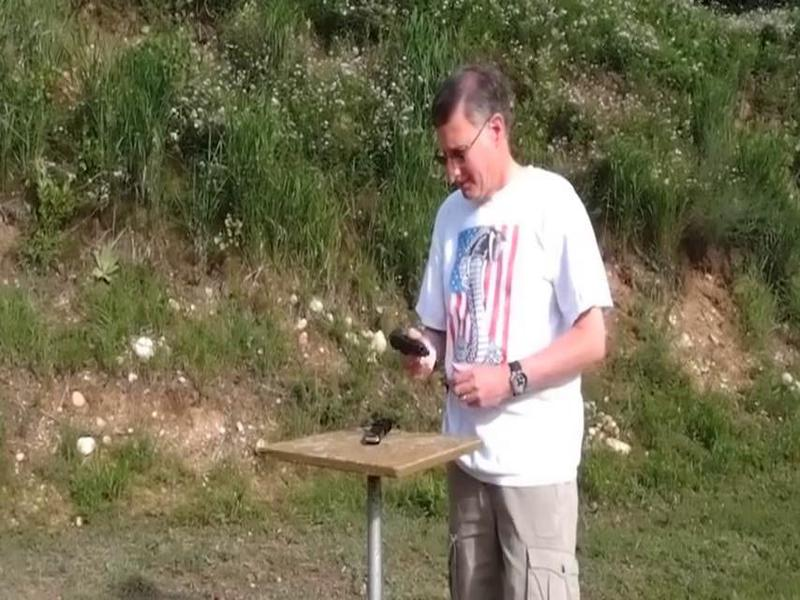Pistola: (371, 319, 442, 390)
